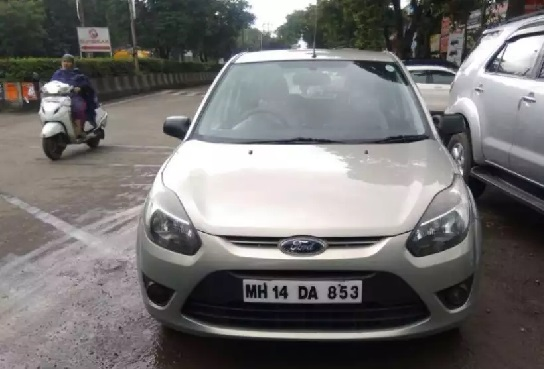licenseplate: (239, 276, 365, 306)
